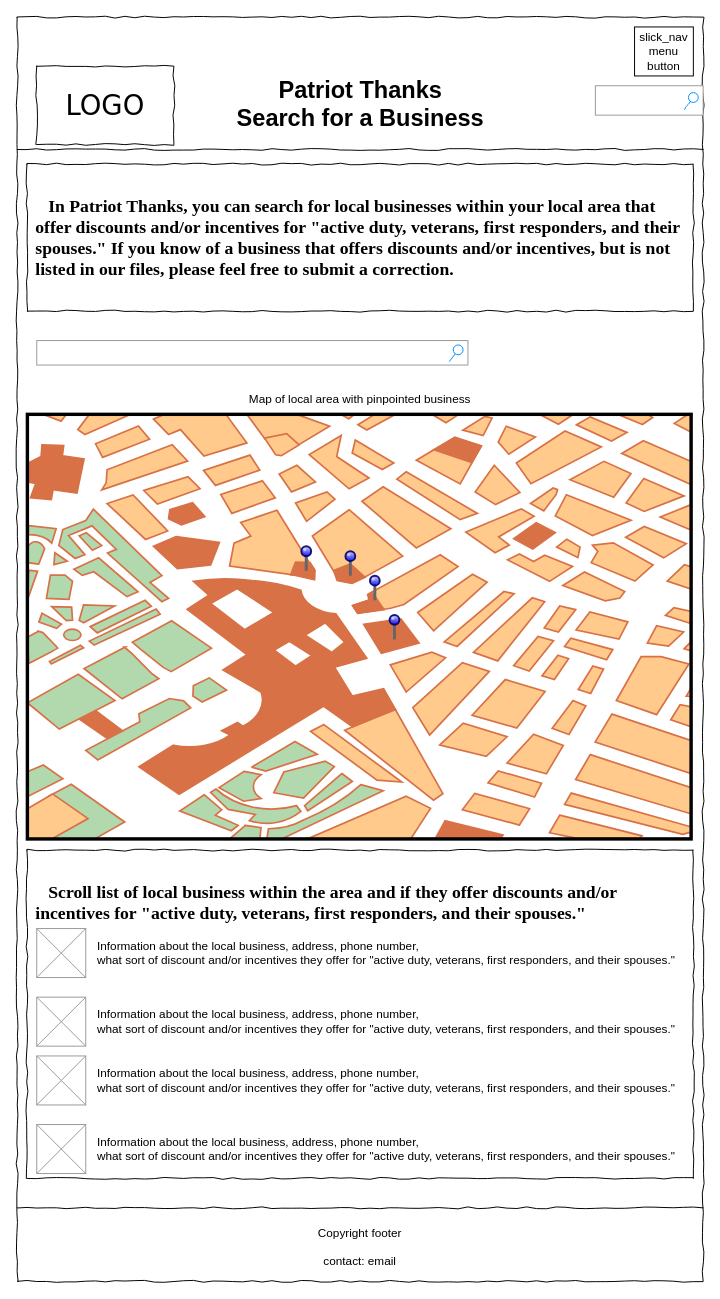
This 720x1299 diagram has some shape labels left out. Each missing label, with the centre of its shape:
"Search" belongs at pixel 648 100.
"Search by business name or city, state, zip" belongs at pixel 252 352.
